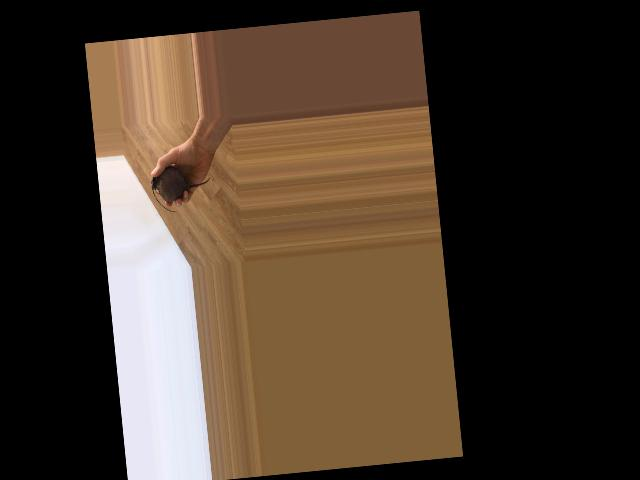beet: (149, 162, 212, 215)
